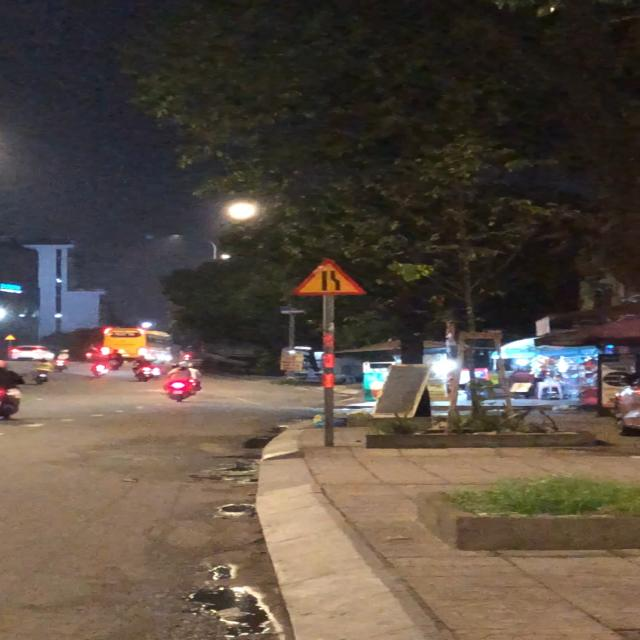Bien bao duong bi thu hep: (279, 255, 380, 297)
